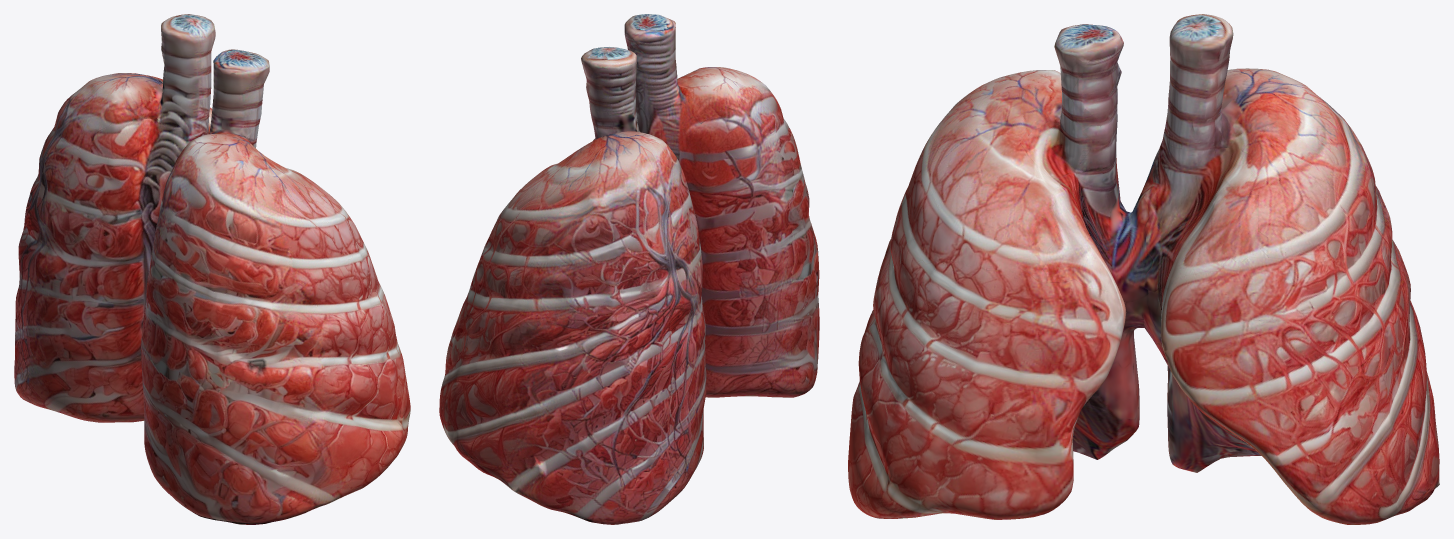
The model's file is lungs.glb.
3 renders of one model, left to right at view 1: azimuth 30°, elevation 25°; view 2: azimuth 150°, elevation 25°; view 3: azimuth 270°, elevation 25°, orthographic. The views are drawn at different scales.
Bounding box in the file's own units: 0.71 × 1.11 × 1.2.
1 material, 1 textured.
